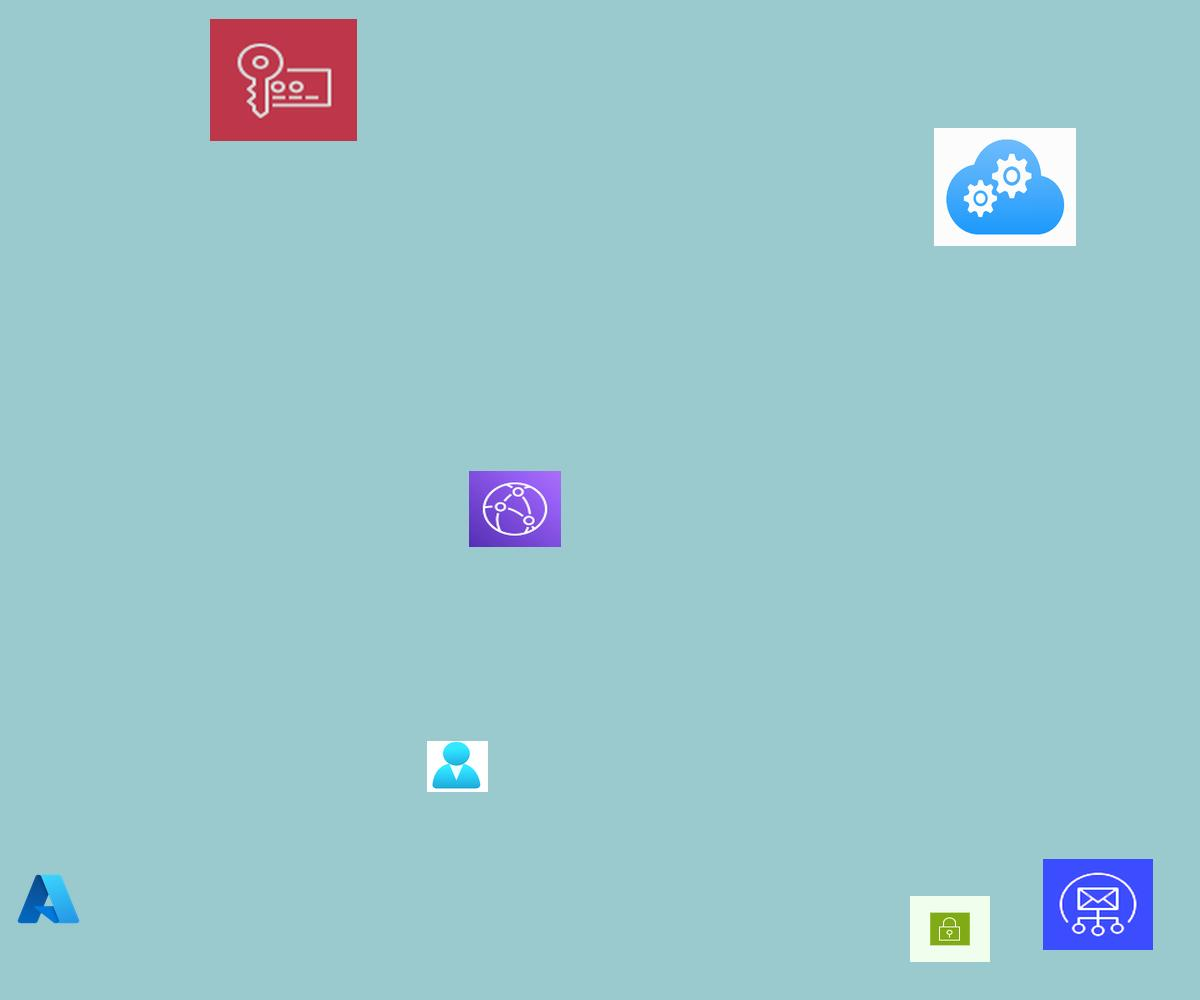AWS-CloudFront: (469, 471, 561, 547)
AWS-Key-Management-Service: (210, 19, 357, 141)
AWS-Public-subnet: (910, 896, 990, 962)
AWS-Simple-Email-Service: (1043, 859, 1153, 950)
Azure_cloud_services: (934, 128, 1076, 246)
Azure_services: (15, 871, 82, 927)
Azure_users: (427, 741, 488, 792)
